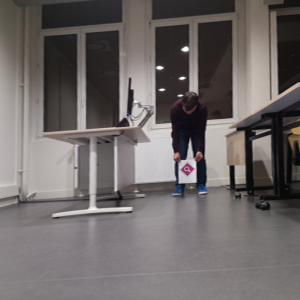search: (181, 162, 194, 176)
